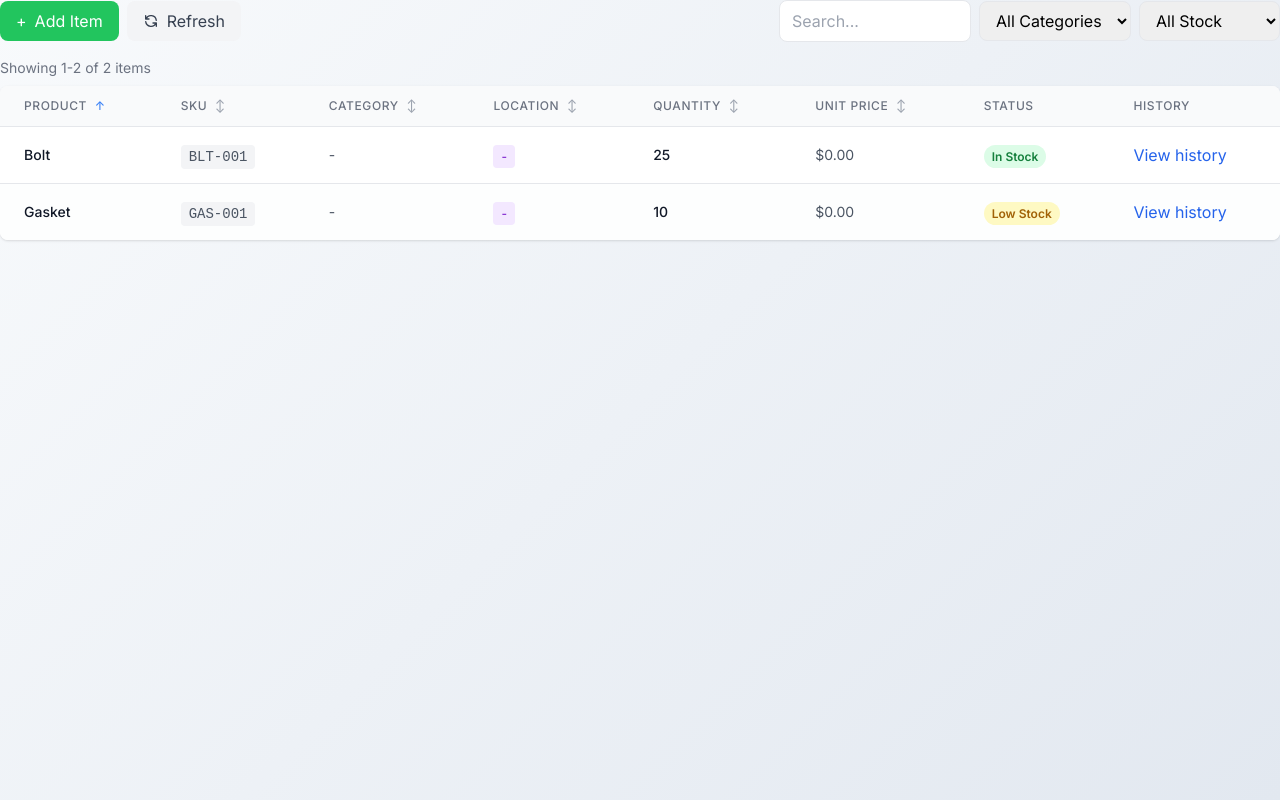
Scenario: labels legacy or deleted authors as unknown without inventing a name
The image size is (1280, 800).
Click the button with aria-label "View history for Bolt".
click(1180, 155)  # box x1=1133 y1=143 x2=1227 y2=167
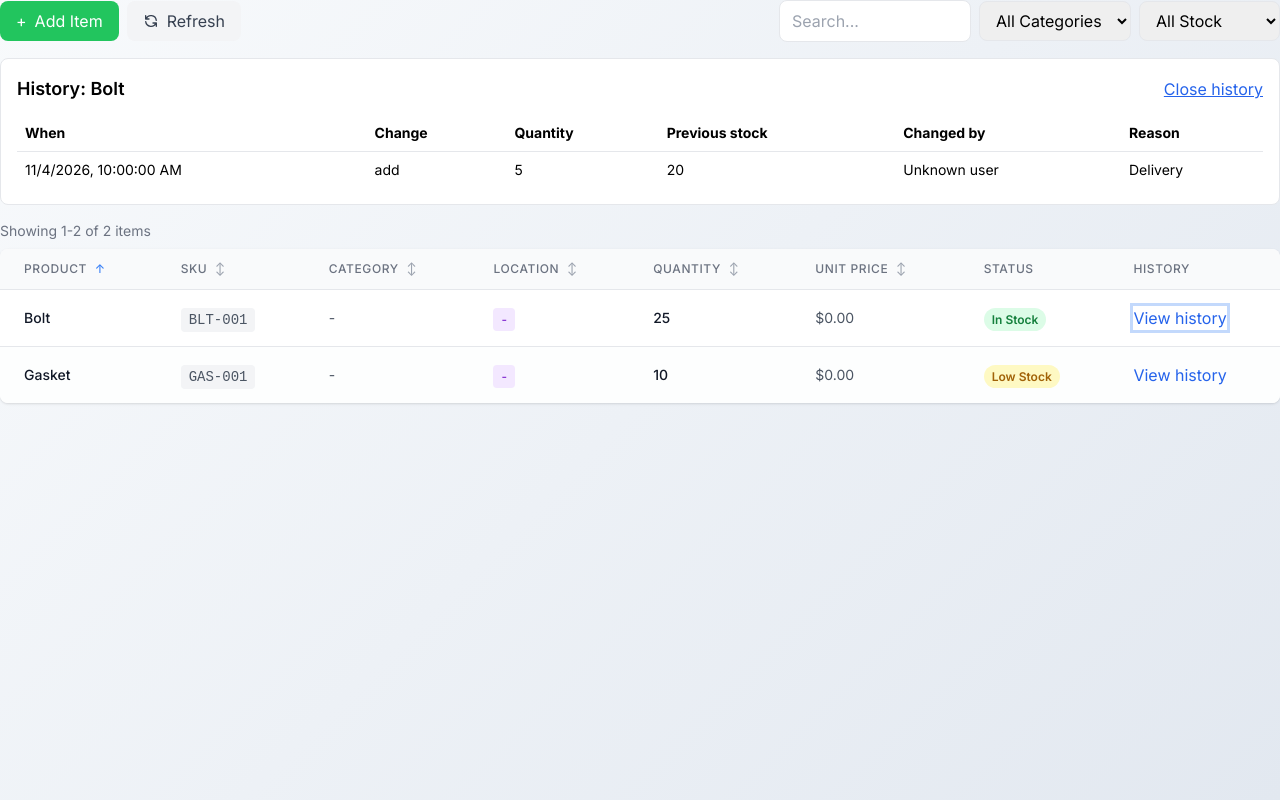
Result: the text "Unknown user" is shown at x1=895 y1=152 x2=1121 y2=188
